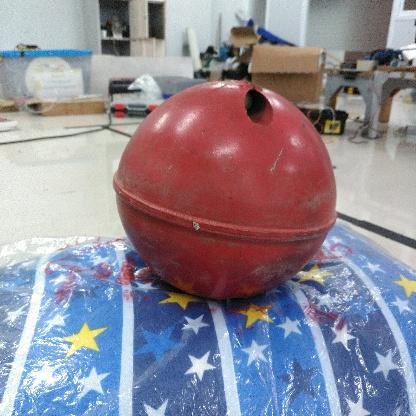red_buoy: (113, 81, 339, 297)
